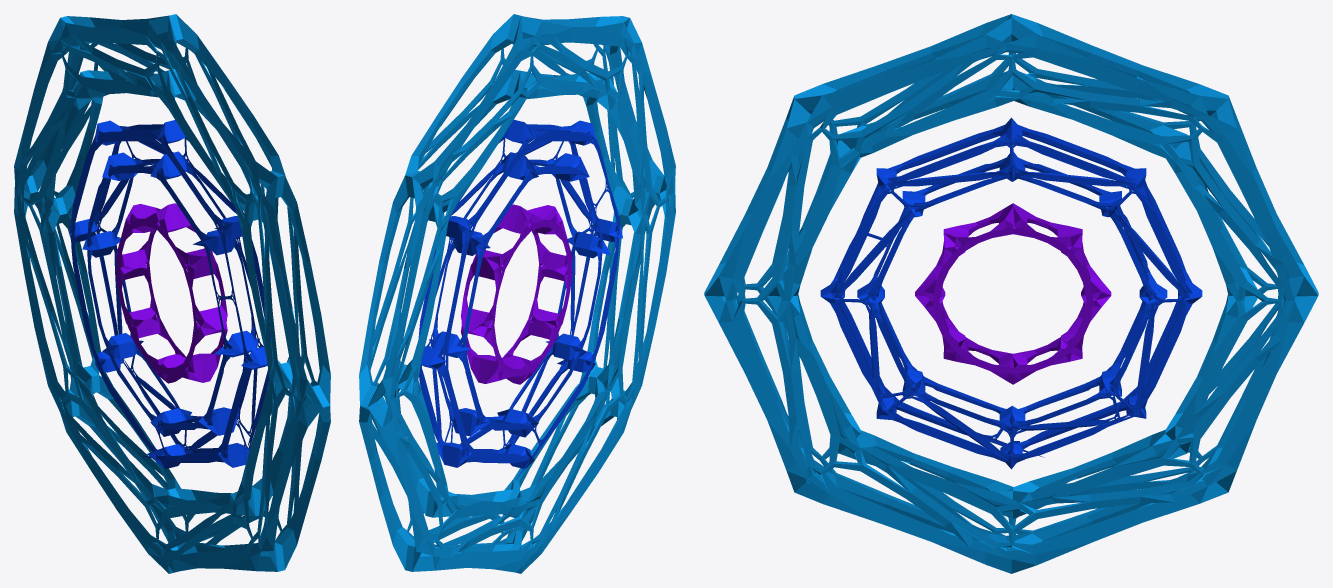
The model's file is portal to hose.fbx.
3 renders of one model, left to right at view 1: azimuth 30°, elevation 25°; view 2: azimuth 150°, elevation 25°; view 3: azimuth 270°, elevation 25°, orthographic.
Parts seen in each view (by area): view 1: NotMiddle, Middle; view 2: NotMiddle, Middle; view 3: NotMiddle, Middle.
Part boxes in pixels (x1=…): NotMiddle: x1=14, y1=14, x2=330, y2=573; Middle: x1=69, y1=120, x2=271, y2=468; NotMiddle: x1=359, y1=14, x2=675, y2=573; Middle: x1=418, y1=119, x2=622, y2=480; NotMiddle: x1=704, y1=14, x2=1318, y2=573; Middle: x1=820, y1=117, x2=1202, y2=469.
Bounding box in the file's own units: 18.4 × 211 × 211.
